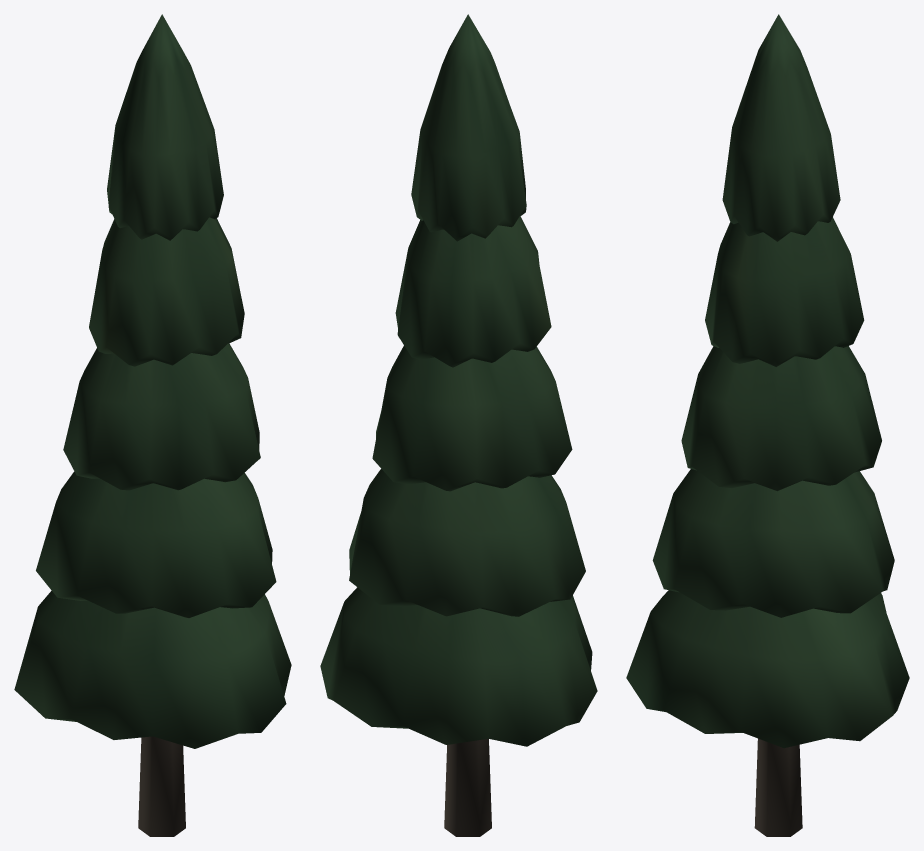
Rendered from pine_1.glb.
3 views of the same model, side by side, from view 1: azimuth 30°, elevation 25°; view 2: azimuth 150°, elevation 25°; view 3: azimuth 270°, elevation 25° (orthographic).
Parts seen in each view (by area): view 1: pine_1; view 2: pine_1; view 3: pine_1.
Part boxes in pixels (x1,y1,x2,y2): pine_1: [14, 14, 291, 836]; pine_1: [320, 14, 597, 836]; pine_1: [626, 14, 909, 836].
Size of the model in its own units: 1.78 by 5.63 by 1.78.
